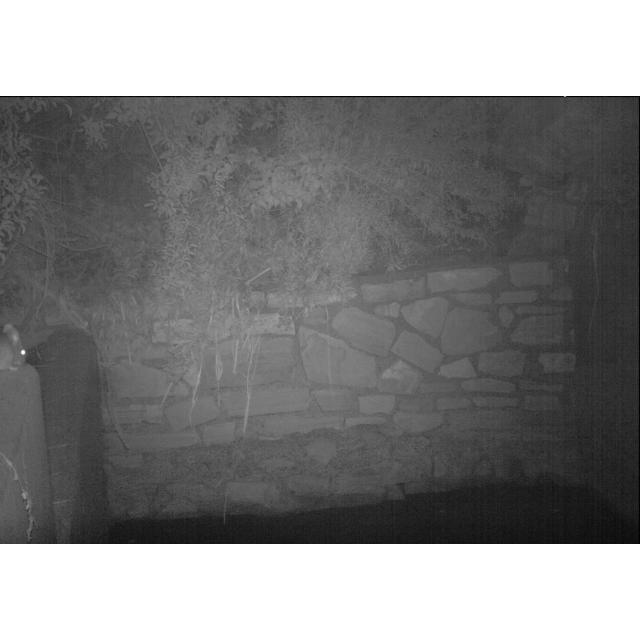animals: (0, 320, 30, 378)
